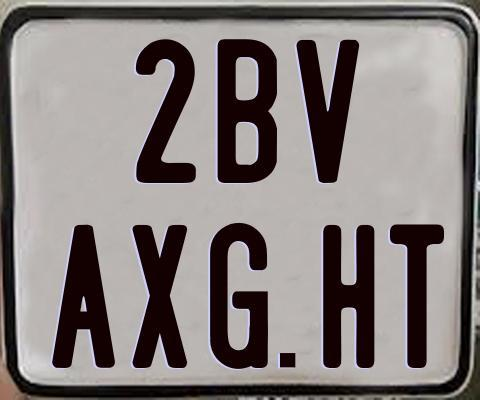2: (135, 38, 196, 186)
A: (49, 225, 114, 374)
B: (217, 38, 278, 183)
G: (207, 223, 271, 375)
H: (320, 224, 373, 373)
T: (388, 224, 447, 370)
V: (294, 40, 358, 183)
X: (129, 222, 190, 366)
